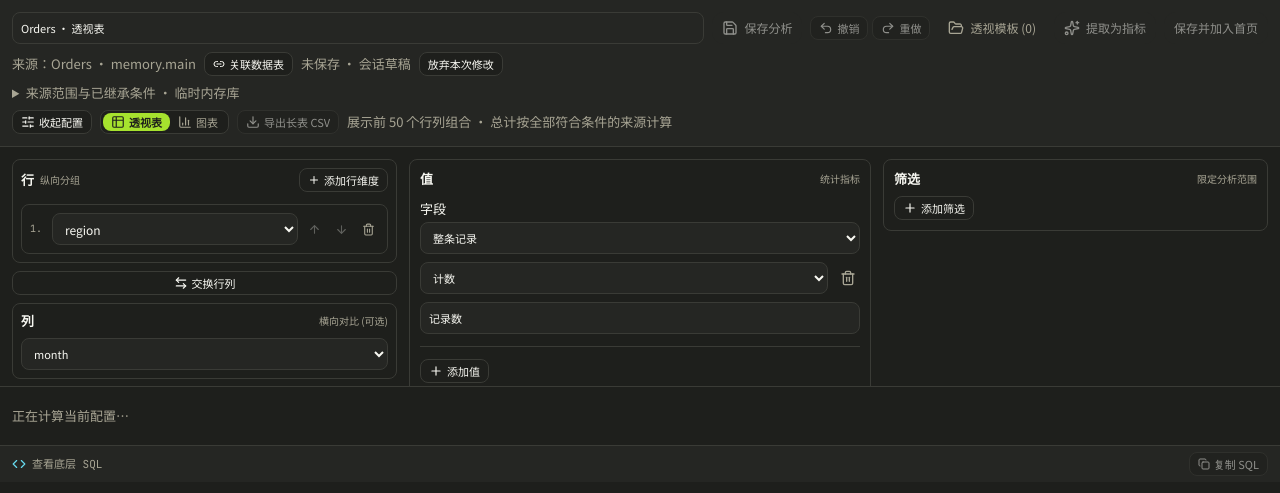
Test case: pivot configuration history › undoes and redoes a destructive row/column swap via buttons
This screenshot has width=1280, height=493.
Expected: the button with aria-label "撤销配置修改" is disabled, x1=810 y1=16 x2=868 y2=40
Expected: the button with aria-label "重做配置修改" is disabled, x1=872 y1=16 x2=930 y2=40
Click the button "交换行列" at x=204, y=283, box x1=12 y1=271 x2=397 y2=295
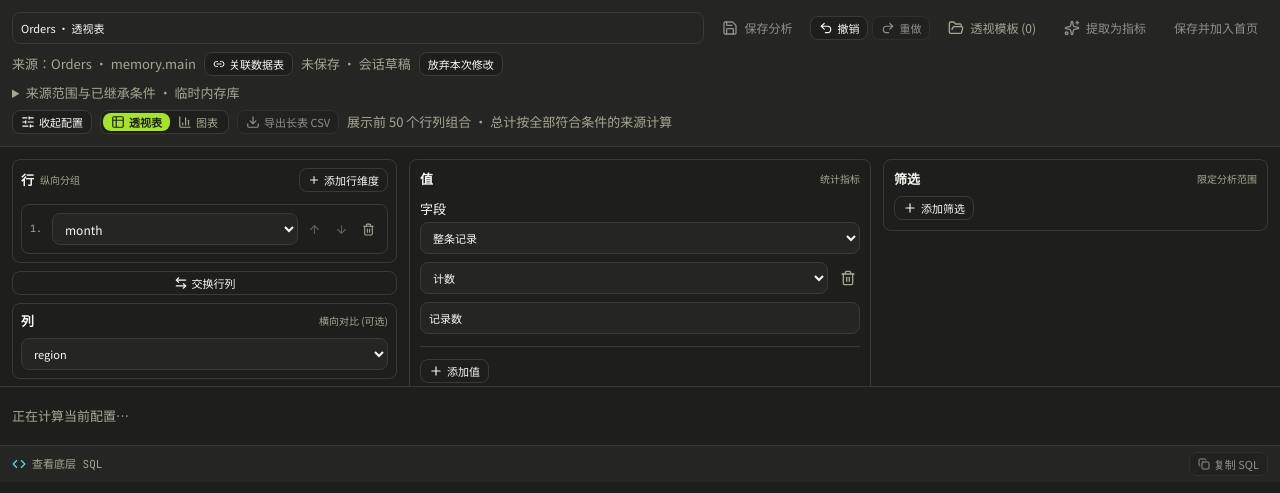
Now the dropdown labelled "行" shows "month", box x1=52 y1=213 x2=298 y2=245
Click the button with aria-label "撤销配置修改" at x=840, y=28, box x1=810 y1=16 x2=868 y2=40
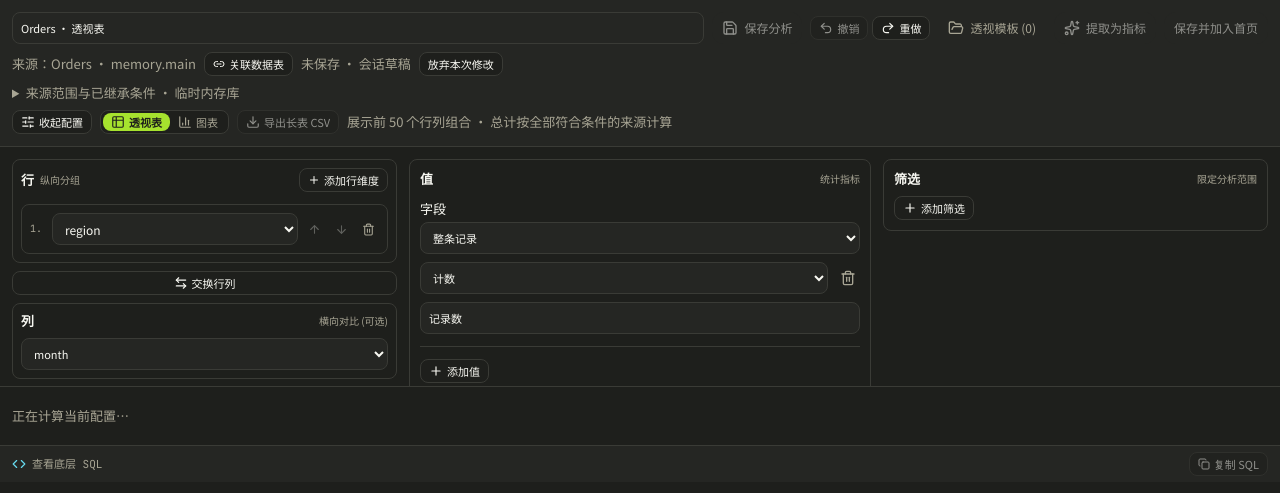
Now the dropdown labelled "行" shows "region", box x1=52 y1=213 x2=298 y2=245
Now the dropdown labelled "列" shows "month", box x1=21 y1=338 x2=388 y2=370
Now the button with aria-label "重做配置修改" is enabled
Click the button with aria-label "重做配置修改" at x=902, y=28, box x1=872 y1=16 x2=930 y2=40
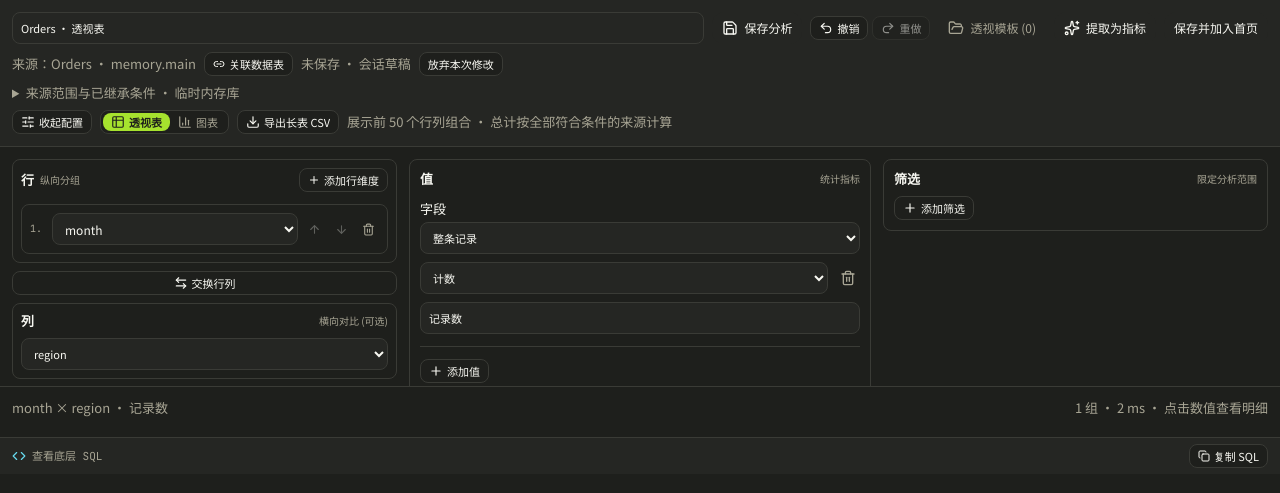
Now the dropdown labelled "行" shows "month", box x1=52 y1=213 x2=298 y2=245
